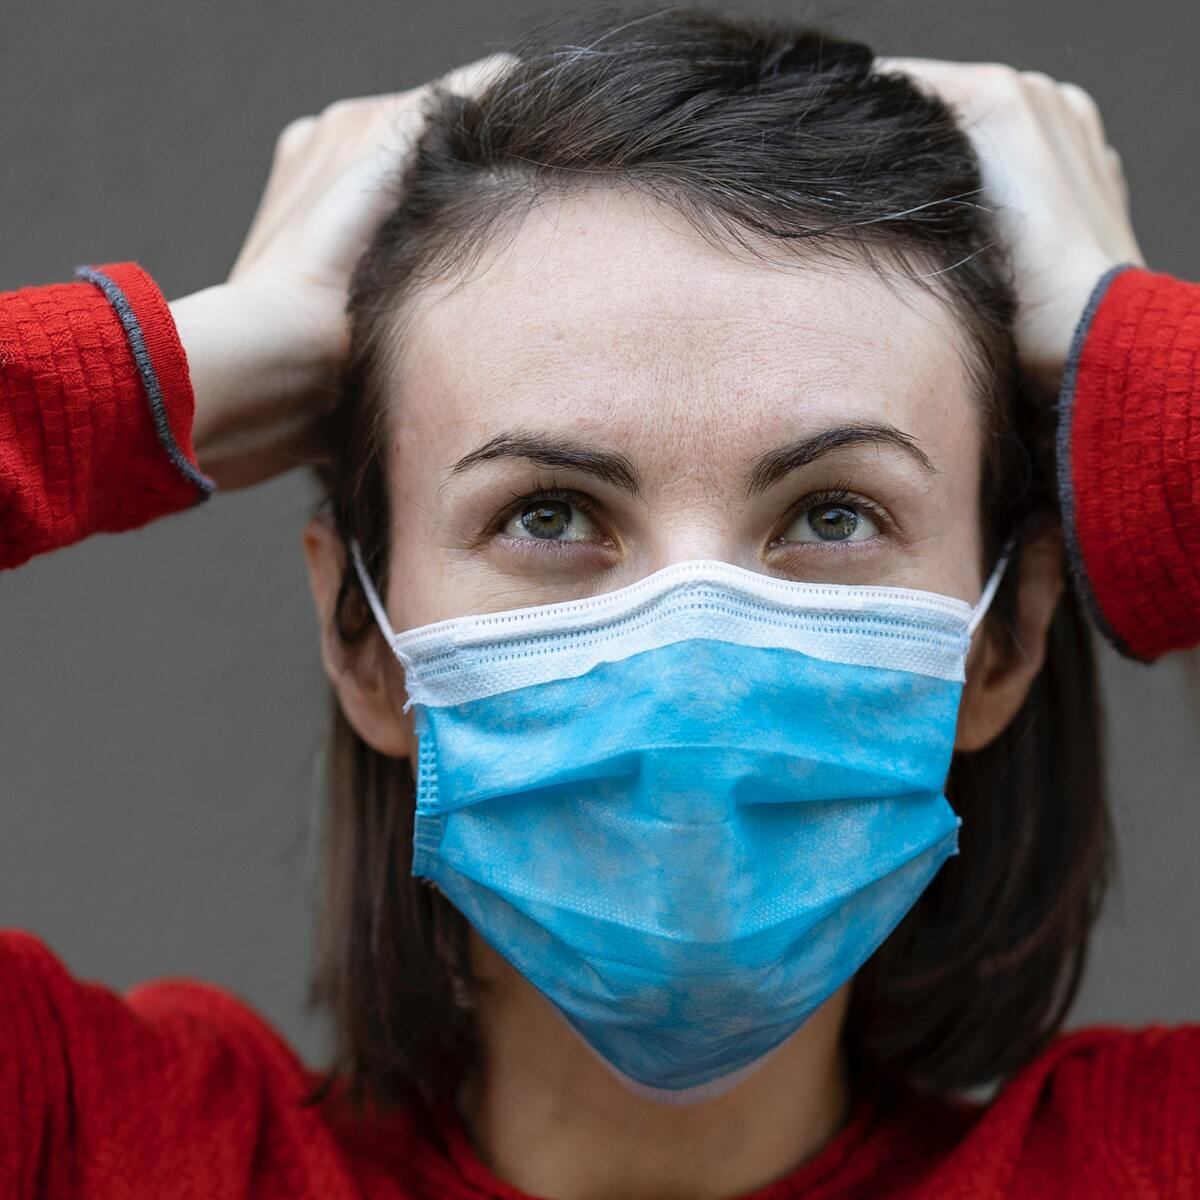with_mask: (405, 186, 990, 1030)
